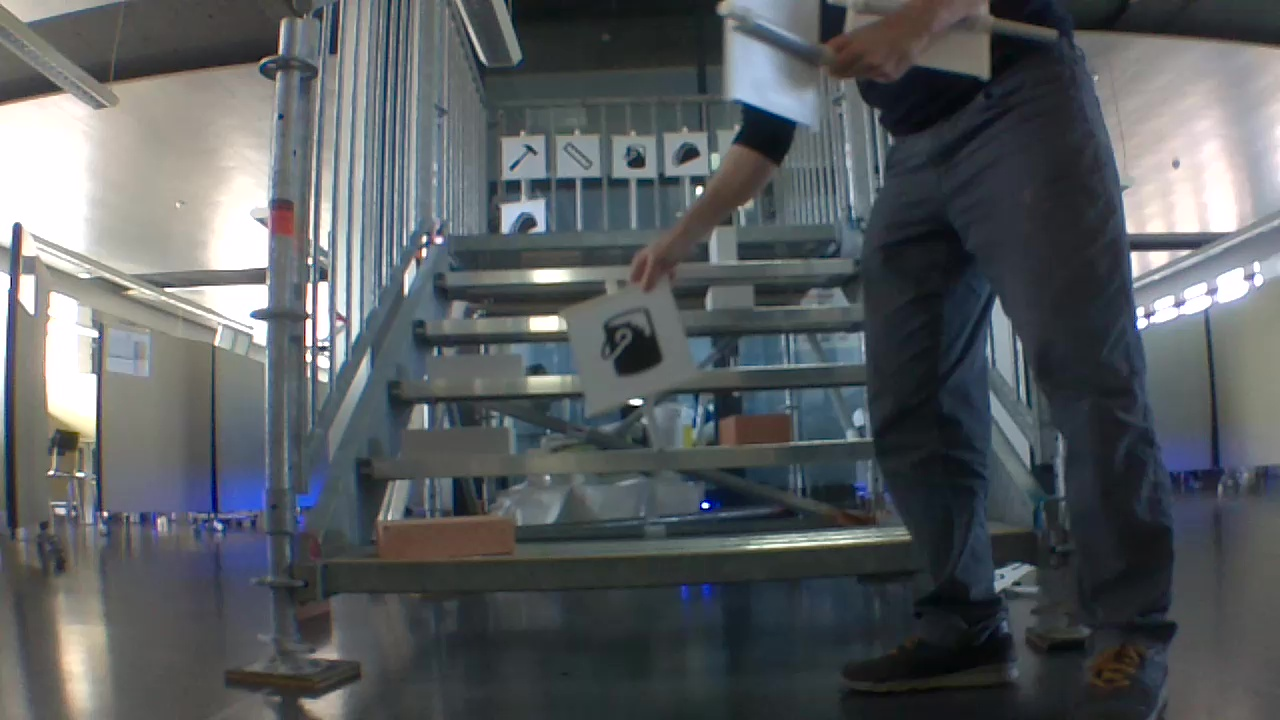brick: (379, 514, 517, 561), (405, 424, 515, 456), (724, 412, 796, 447), (432, 352, 524, 379), (701, 285, 755, 311), (711, 228, 737, 264)
bucket: (599, 304, 665, 379), (620, 143, 644, 170)
hammer: (507, 142, 538, 172)
ruler: (563, 141, 593, 170)
taco: (667, 140, 708, 169), (510, 208, 542, 233)
